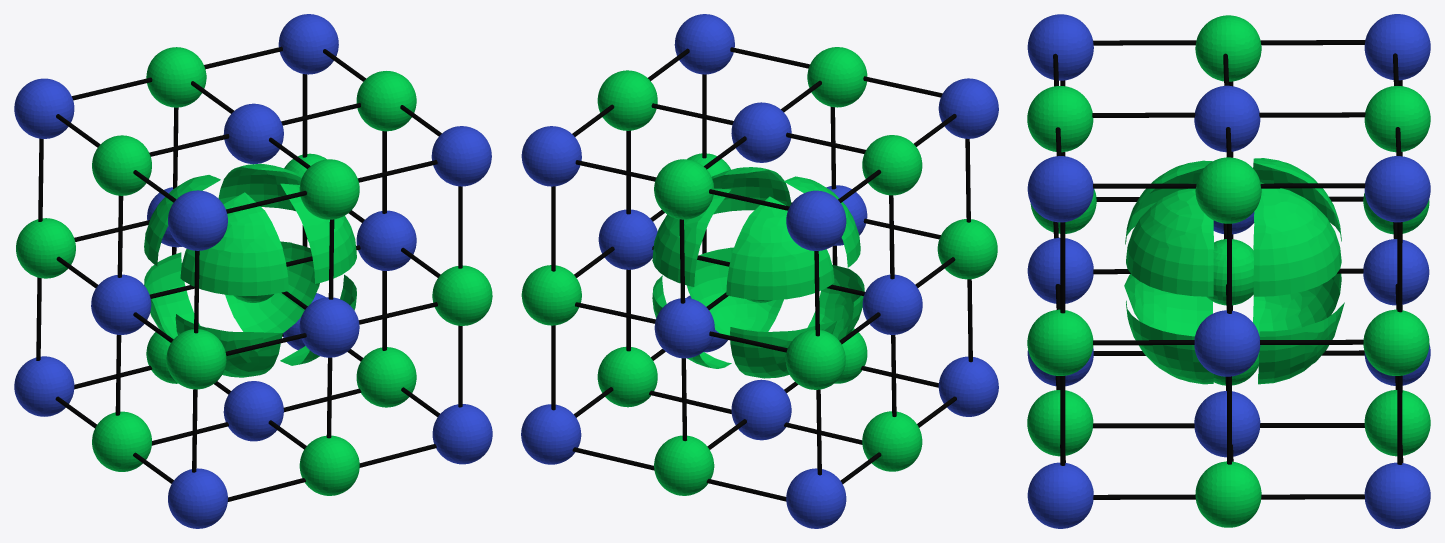
File: compartimiento_en_una_celda.gltf
The picture shows the model from 3 angles, left to right: view 1: azimuth 30°, elevation 25°; view 2: azimuth 150°, elevation 25°; view 3: azimuth 270°, elevation 25°; orthographic projection. The views are drawn at different scales.
Parts seen in each view (by area): view 1: Sphere.000_Sphere.004, Sphere.005_Sphere.008, Sphere.080_Sphere.160, Sphere.057_Sphere.137, Sphere.060_Sphere.140, Sphere.062_Sphere.142, Sphere.061_Sphere.141, Sphere.056_Sphere.136, Sphere.069_Sphere.149, Sphere.073_Sphere.153, Sphere.078_Sphere.158, Sphere.063_Sphere.143 (+32 smaller); view 2: Sphere.004_Sphere.007, Sphere.001_Sphere.005, Sphere.003_Sphere.006, Sphere.054_Sphere.134, Sphere.055_Sphere.135, Sphere.072_Sphere.152, Sphere.059_Sphere.139, Sphere.071_Sphere.151, Sphere.058_Sphere.138, Sphere.070_Sphere.150, Sphere.079_Sphere.159, Sphere.064_Sphere.144 (+32 smaller); view 3: Sphere.003_Sphere.006, Sphere.080_Sphere.160, Sphere.075_Sphere.155, Sphere.055_Sphere.135, Sphere.056_Sphere.136, Sphere.059_Sphere.139, Sphere.076_Sphere.156, Sphere.070_Sphere.150, Sphere.060_Sphere.140, Sphere.067_Sphere.147, Sphere.069_Sphere.149, Sphere.057_Sphere.137 (+31 smaller).
Part boxes in pixels (x1,y1,x2,y2): Sphere.000_Sphere.004: (180,192,288,295); Sphere.005_Sphere.008: (225,241,319,332); Sphere.080_Sphere.160: (280,183,356,283); Sphere.057_Sphere.137: (168,190,227,250); Sphere.060_Sphere.140: (432,404,492,464); Sphere.062_Sphere.142: (166,329,226,389); Sphere.061_Sphere.141: (168,468,227,528); Sphere.056_Sphere.136: (431,126,491,186); Sphere.069_Sphere.149: (432,265,492,325); Sphere.073_Sphere.153: (299,159,359,219); Sphere.078_Sphere.158: (299,435,359,495); Sphere.063_Sphere.143: (299,297,359,357); Sphere.004_Sphere.007: (726,196,834,300); Sphere.001_Sphere.005: (687,247,783,335); Sphere.003_Sphere.006: (652,188,730,286); Sphere.054_Sphere.134: (786,190,846,250); Sphere.055_Sphere.135: (521,126,581,186); Sphere.072_Sphere.152: (654,159,714,219); Sphere.059_Sphere.139: (521,404,581,464); Sphere.071_Sphere.151: (785,329,845,389); Sphere.058_Sphere.138: (786,468,846,528); Sphere.070_Sphere.150: (521,265,581,325); Sphere.079_Sphere.159: (654,435,714,495); Sphere.064_Sphere.144: (654,298,714,358); Sphere.003_Sphere.006: (1253,182,1341,296); Sphere.080_Sphere.160: (1126,188,1213,296); Sphere.075_Sphere.155: (1195,157,1261,223); Sphere.055_Sphere.135: (1364,156,1430,222); Sphere.056_Sphere.136: (1027,156,1093,222); Sphere.059_Sphere.139: (1364,462,1430,528); Sphere.076_Sphere.156: (1195,461,1261,527); Sphere.070_Sphere.150: (1363,309,1429,375); Sphere.060_Sphere.140: (1027,462,1093,528); Sphere.067_Sphere.147: (1194,310,1260,376); Sphere.069_Sphere.149: (1027,309,1093,375); Sphere.057_Sphere.137: (1027,14,1093,80).
Bounding box in the file's own units: 36.23 × 36.36 × 36.24.
